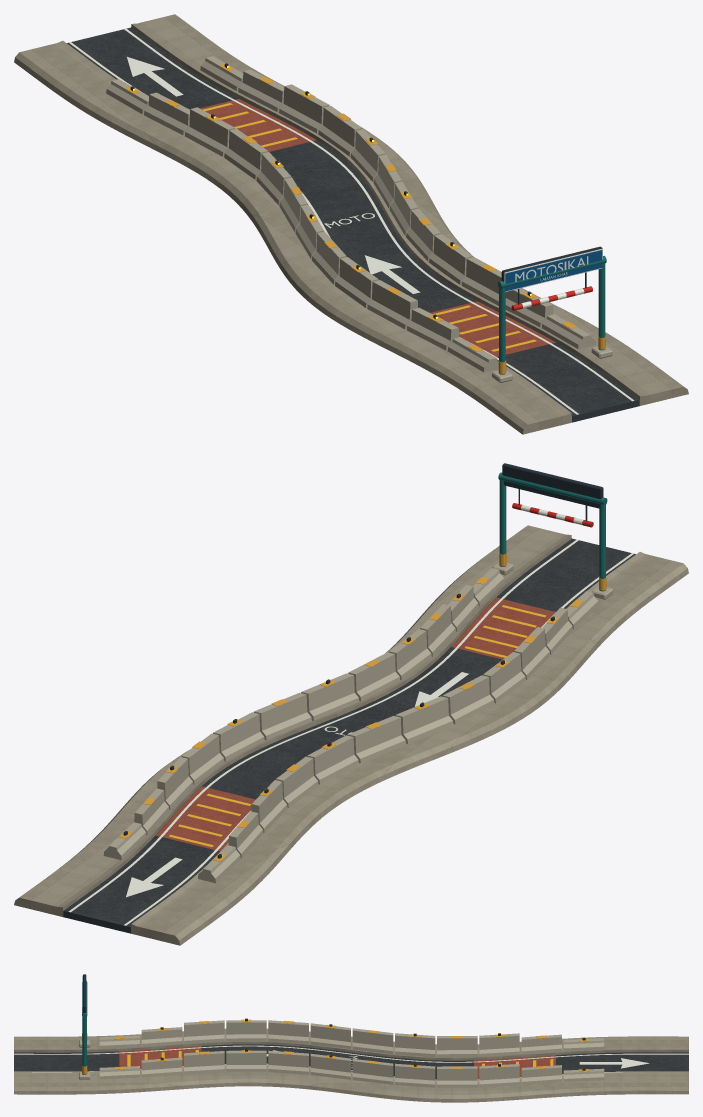
3 views of the same model, one above another, from view 1: azimuth 30°, elevation 25°; view 2: azimuth 150°, elevation 25°; view 3: azimuth 270°, elevation 25° (orthographic). The views are drawn at different scales.
Parts seen in each view (by area): view 1: Service shoulders, Filter island units, Segregated lane, Anti-skid panels, Channel lines, Motorcycle lane header, CLEARANCE frame, Unit cap stripes, Direction arrows, Slow bars; view 2: Service shoulders, Filter island units, Segregated lane, Anti-skid panels, Channel lines, CLEARANCE frame, Motorcycle lane header, Unit cap stripes, Slow bars, Direction arrows; view 3: Filter island units, Service shoulders, Segregated lane, Anti-skid panels, Channel lines, Unit cap stripes, CLEARANCE frame, Direction arrows, Slow bars.
Boxes of the visible parts, x1,y1,x2,y2 form: Service shoulders: (14,14,688,434); Filter island units: (106,56,595,372); Segregated lane: (67,27,639,422); Anti-skid panels: (200,99,555,356); Channel lines: (68,28,634,414); Motorcycle lane header: (501,246,602,291); CLEARANCE frame: (497,256,606,374); Unit cap stripes: (125,64,577,351); Direction arrows: (127,57,420,293); Slow bars: (202,103,536,351); Service shoulders: (14,525,688,945); Filter island units: (103,568,598,883); Segregated lane: (63,538,635,933); Anti-skid panels: (156,597,555,851); Channel lines: (68,539,634,925); CLEARANCE frame: (498,472,607,591); Motorcycle lane header: (502,463,603,508); Unit cap stripes: (119,577,583,861); Slow bars: (169,605,546,846); Direction arrows: (126,672,468,897); Filter island units: (99,1020,604,1087); Service shoulders: (14,1028,688,1102); Segregated lane: (14,1044,688,1079); Anti-skid panels: (119,1046,555,1079); Channel lines: (14,1045,688,1079); Unit cap stripes: (114,1019,589,1071); CLEARANCE frame: (82,980,87,1074); Direction arrows: (266,1050,649,1068); Slow bars: (127,1050,553,1066).
Size of the model in its own units: 7.87 by 4.04 by 32.
Materials: 14 (3 with a texture image).
